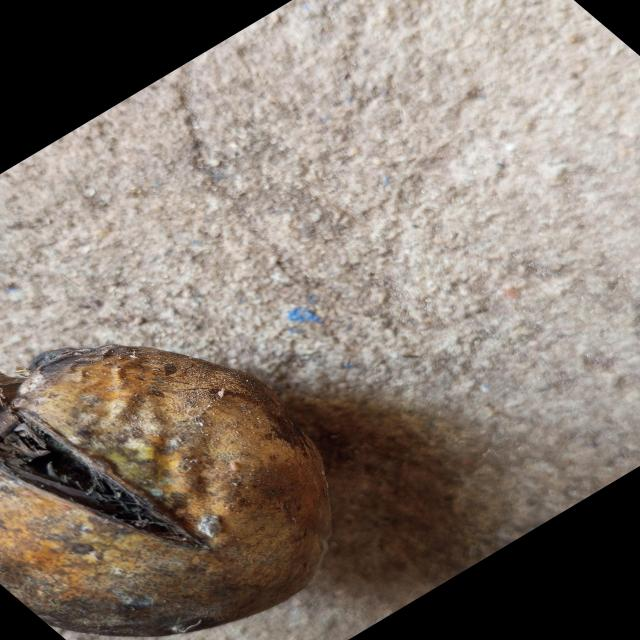damaged: (0, 346, 330, 635)
